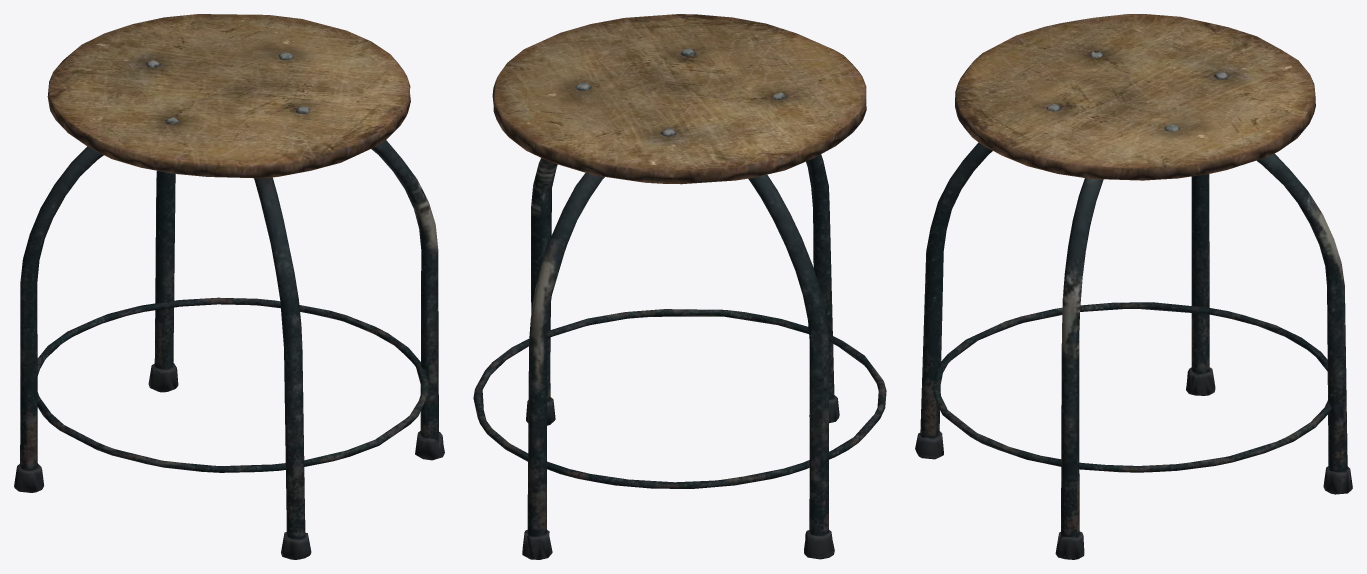
The model's file is metal_stool_02.glb.
3 views of the same model, side by side, from view 1: azimuth 30°, elevation 25°; view 2: azimuth 150°, elevation 25°; view 3: azimuth 270°, elevation 25° (orthographic). The views are drawn at different scales.
Visible parts, largest first — view 1: metal_stool_02; view 2: metal_stool_02; view 3: metal_stool_02.
Boxes of the visible parts, x1,y1,x2,y2 form: metal_stool_02: (14,14,444,559); metal_stool_02: (473,14,886,559); metal_stool_02: (915,14,1352,559).
Size of the model in its own units: 0.4481 by 0.4578 by 0.4725.
Materials: 1 (1 with a texture image).
